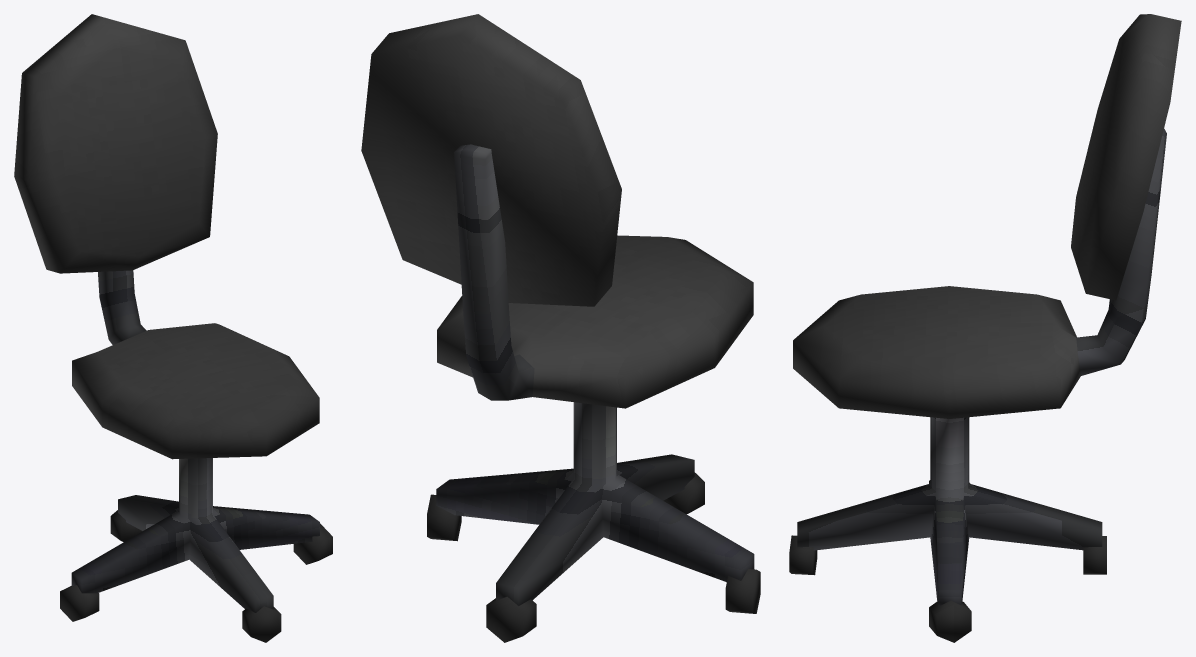
The model's file is chair.glb.
3 views of the same model, side by side, from view 1: azimuth 30°, elevation 25°; view 2: azimuth 150°, elevation 25°; view 3: azimuth 270°, elevation 25° (orthographic). The views are drawn at different scales.
Parts seen in each view (by area): view 1: chair; view 2: chair; view 3: chair.
Boxes of the visible parts, bbox=[...] form: chair: bbox=[14, 14, 332, 642]; chair: bbox=[361, 14, 760, 642]; chair: bbox=[789, 14, 1181, 642].
Bounding box in the file's own units: 0.6678 × 1.24 × 0.7855.
1 material, 1 textured.
